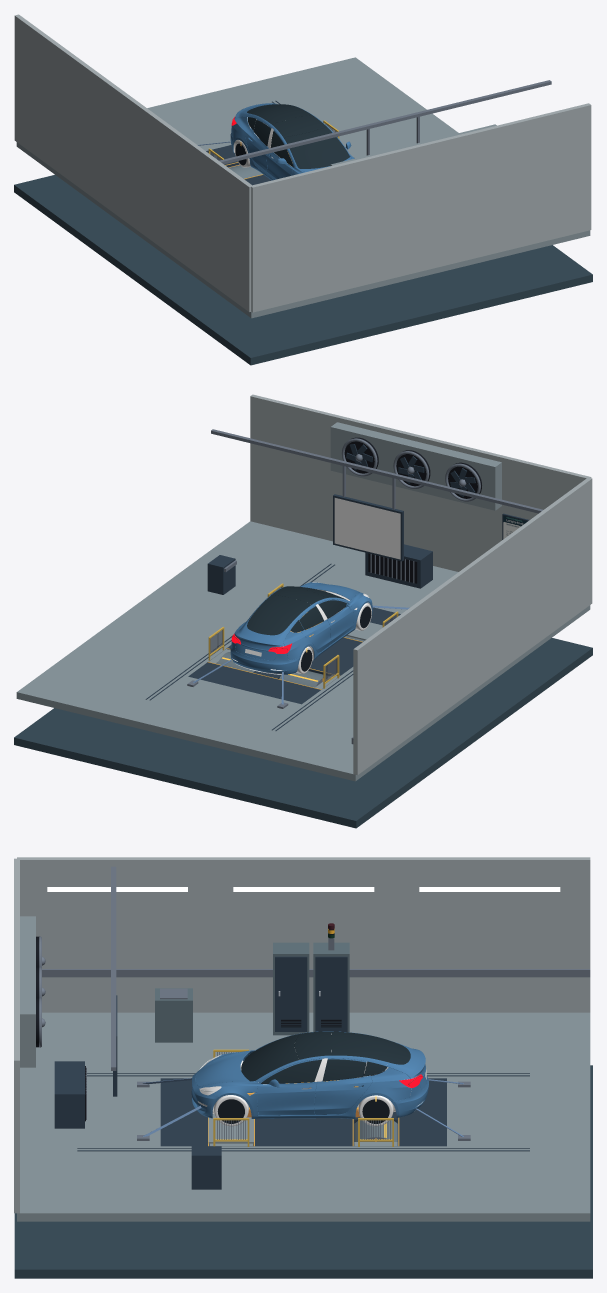
The model's file is vehicle-test-cell.glb.
The picture shows the model from 3 angles, top to bottom: view 1: azimuth 30°, elevation 25°; view 2: azimuth 150°, elevation 25°; view 3: azimuth 270°, elevation 25°; orthographic projection. The views are drawn at different scales.
Parts seen in each view (by area): view 1: Roller dynamometer test cell, Cutaway base, windscreen_ok, glass, body, door_rr, door_rf; view 2: Roller dynamometer test cell, Cutaway base, glass, body, boot, rear_bumper_ok, door_rf, door_rr; view 3: Roller dynamometer test cell, Cutaway base, body, glass, door_lf, door_lr, windscreen_ok, bonnet_ok, boot, rear_bumper_ok, front_bumper_ok.
Boxes of the visible parts, box(x1,y1,x2,y2) form: Roller dynamometer test cell: box(14, 14, 591, 318); Cutaway base: box(14, 165, 592, 365); windscreen_ok: box(283, 127, 349, 168); glass: box(247, 104, 326, 137); body: box(231, 106, 354, 180); door_rr: box(245, 120, 271, 175); door_rf: box(266, 130, 293, 179); Roller dynamometer test cell: box(16, 394, 592, 781); Cutaway base: box(14, 638, 592, 828); glass: box(247, 587, 326, 635); body: box(234, 582, 369, 660); boot: box(234, 618, 290, 660); rear_bumper_ok: box(230, 641, 300, 674); door_rf: box(318, 600, 353, 644); door_rr: box(299, 606, 331, 652); Roller dynamometer test cell: box(14, 857, 590, 1221); Cutaway base: box(14, 1065, 592, 1278); body: box(200, 1031, 411, 1118); glass: box(294, 1031, 410, 1076); door_lf: box(257, 1059, 321, 1115); door_lr: box(314, 1059, 372, 1114); windscreen_ok: box(241, 1034, 299, 1081); bonnet_ok: box(195, 1051, 250, 1086); boot: box(386, 1042, 427, 1089); rear_bumper_ok: box(391, 1076, 428, 1117); front_bumper_ok: box(191, 1070, 220, 1118).
Bounding box in the file's own units: 9.61 × 4.76 × 11.51.
Materials: 67 (1 with a texture image).
